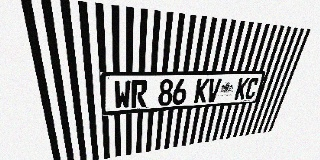6: (172, 79, 188, 105)
8: (158, 79, 174, 106)
C: (244, 77, 260, 99)
K: (193, 78, 210, 103), (234, 78, 250, 100)
R: (131, 80, 148, 108)
V: (206, 78, 222, 102)
W: (113, 80, 131, 109)
